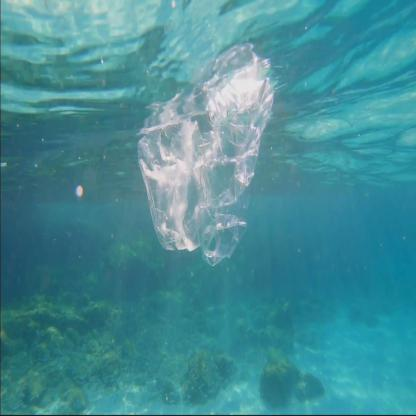Rác: (130, 52, 280, 263)
